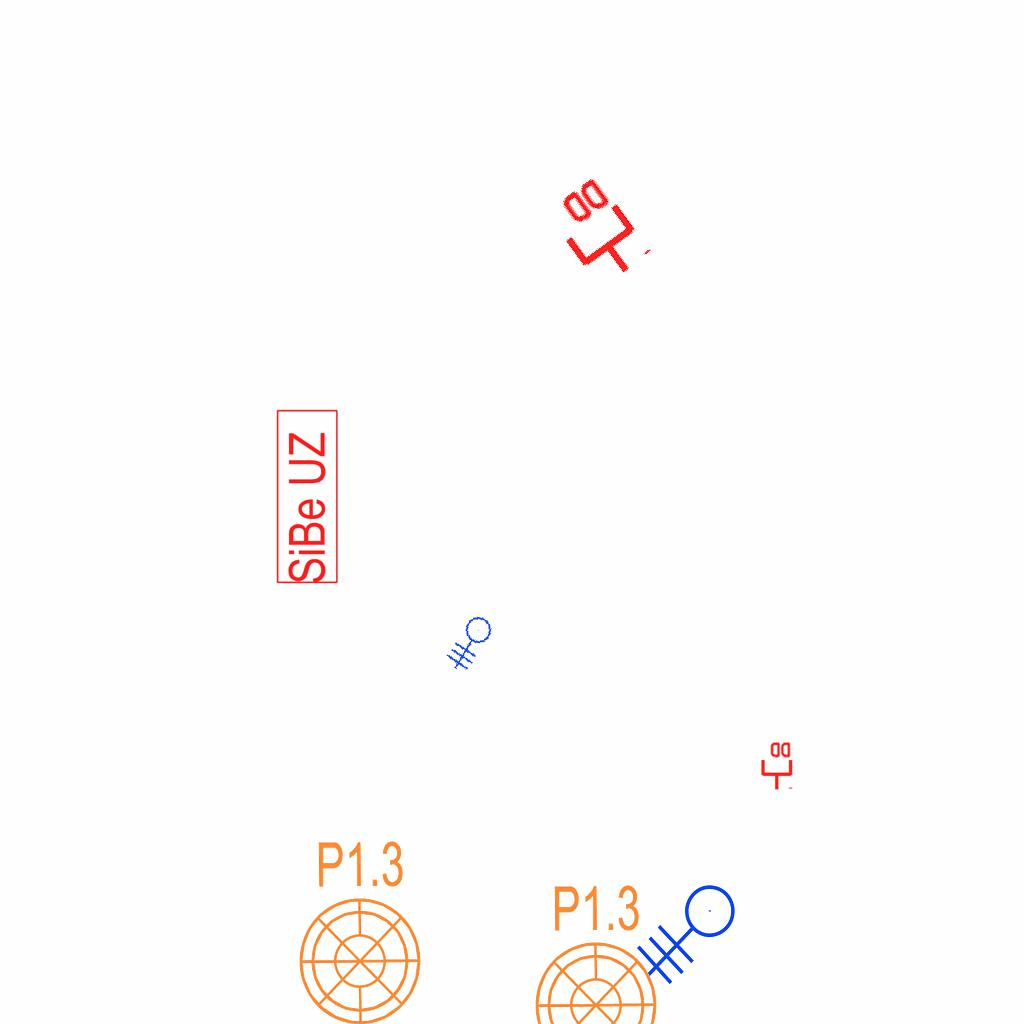Aufbaurundleuchte_LED_Treppenhaus: (296, 823, 435, 1024), (532, 867, 671, 1024)
Datenanschluss_zweifach: (538, 170, 655, 295), (759, 740, 793, 791)
Elektroanschluss_allgemein_400V_Geraeteanschlussdose_400V: (636, 884, 752, 997), (439, 612, 509, 680)
Zentrale_Sicherheitsbeleuchtung: (275, 407, 340, 585)
